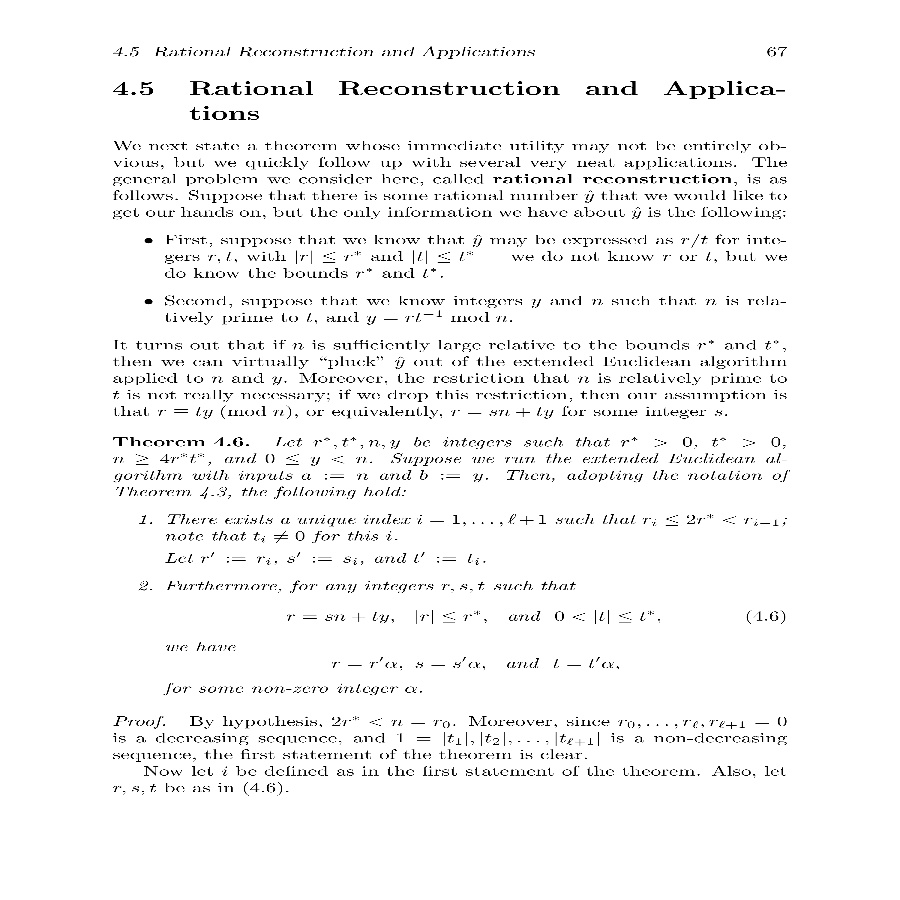eq: (286, 604, 390, 628), (551, 607, 656, 626), (328, 653, 397, 674), (413, 607, 481, 628), (550, 654, 615, 674), (416, 656, 482, 672)
